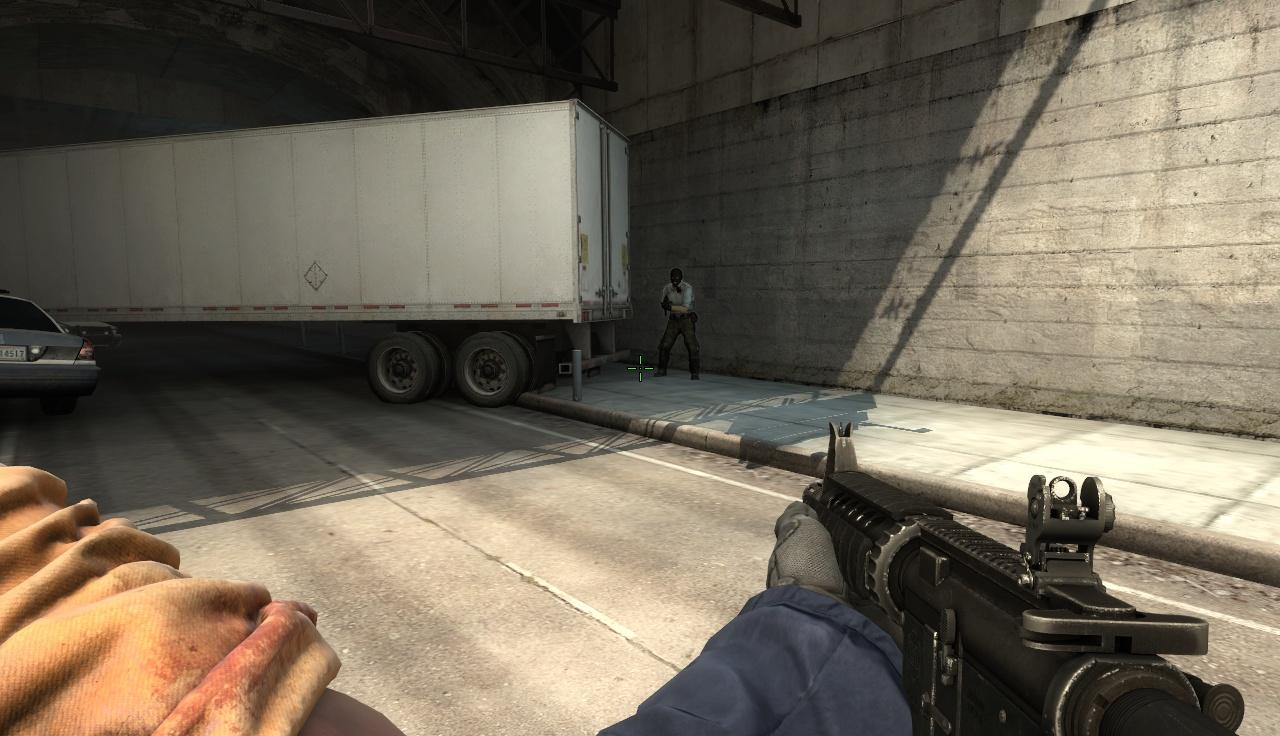rifle: (774, 418, 1280, 736)
tt: (660, 267, 698, 379)
tthead: (669, 267, 684, 286)
